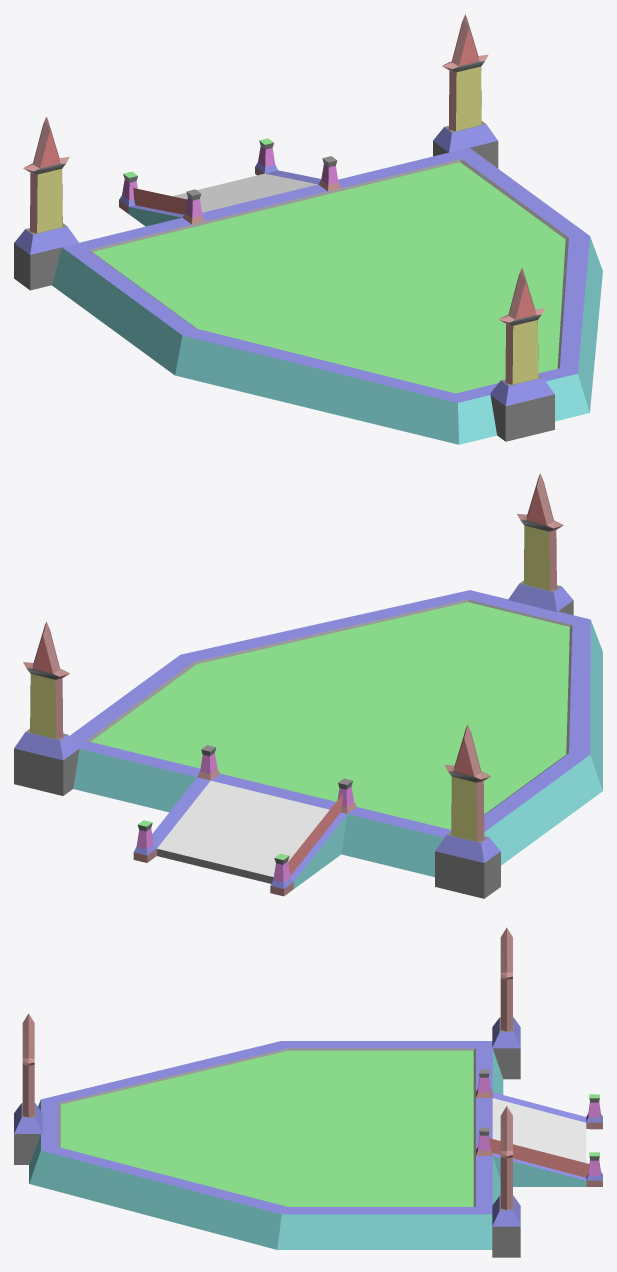
The model's file is DElf_TombTower_Btm.gltf.
3 renders of one model, top to bottom at view 1: azimuth 30°, elevation 25°; view 2: azimuth 150°, elevation 25°; view 3: azimuth 270°, elevation 25°, orthographic. The views are drawn at different scales.
Visible parts, largest first — view 1: DElf_TombTower_Btm; view 2: DElf_TombTower_Btm; view 3: DElf_TombTower_Btm.
Boxes of the visible parts, x1,y1,x2,y2 form: DElf_TombTower_Btm: (14,14,602,444); DElf_TombTower_Btm: (14,473,602,898); DElf_TombTower_Btm: (14,927,602,1257).
Size of the model in its own units: 13.21 by 4.38 by 16.49.
